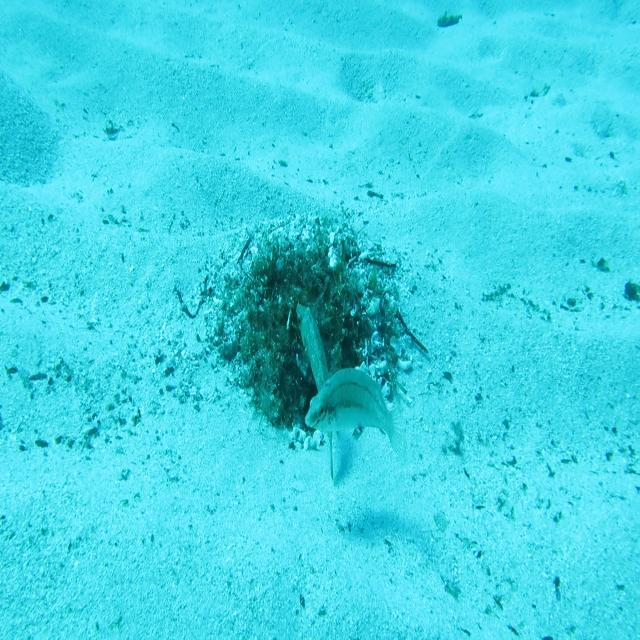FAN: (295, 295, 336, 482)
core_nest: (280, 265, 327, 302)
female: (307, 361, 404, 463)
nest: (196, 205, 418, 457)
vegetation: (437, 11, 464, 31)
